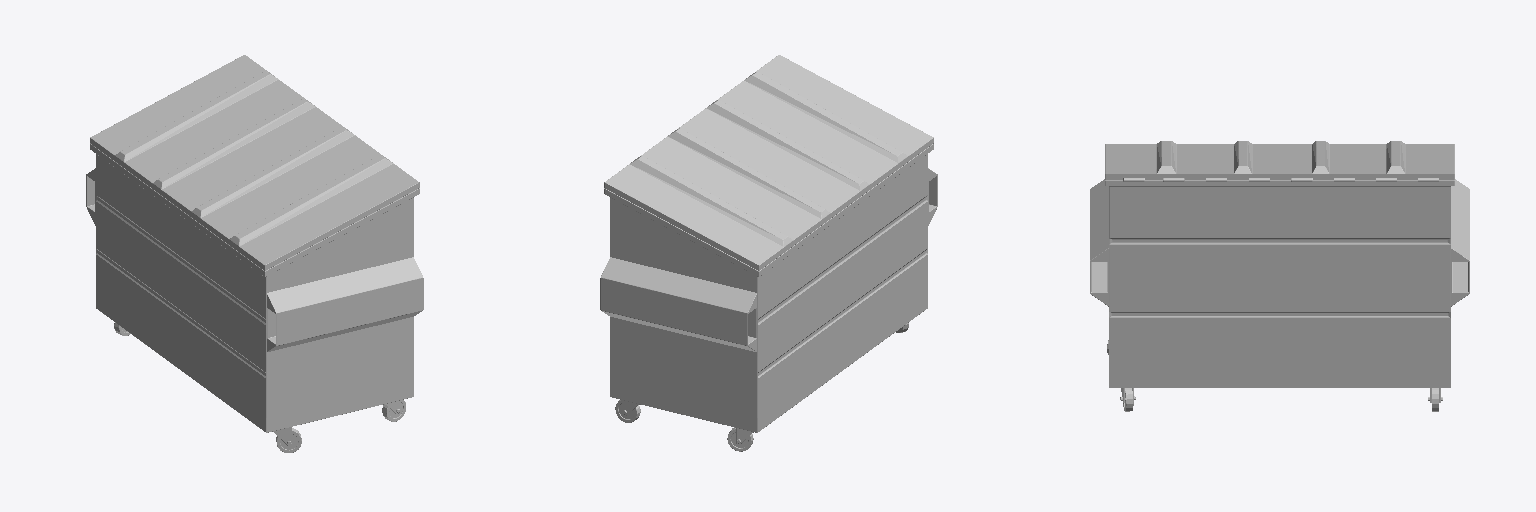
Rendered from dumpster.obj.
3 views of the same model, side by side, from view 1: azimuth 30°, elevation 25°; view 2: azimuth 150°, elevation 25°; view 3: azimuth 270°, elevation 25° (orthographic).
Visible parts, largest first — view 1: Cylinder.004, Cylinder.000; view 2: Cylinder.004, Cylinder.000; view 3: Cylinder.004, Cylinder.000.
Part boxes in pixels (x1,y1,x2,y2): Cylinder.004: (86,144,423,452); Cylinder.000: (90,55,419,270); Cylinder.004: (600,144,937,451); Cylinder.000: (604,55,933,270); Cylinder.004: (1090,178,1469,411); Cylinder.000: (1105,141,1454,179).
Size of the model in its own units: 0.8174 by 1.23 by 1.71.